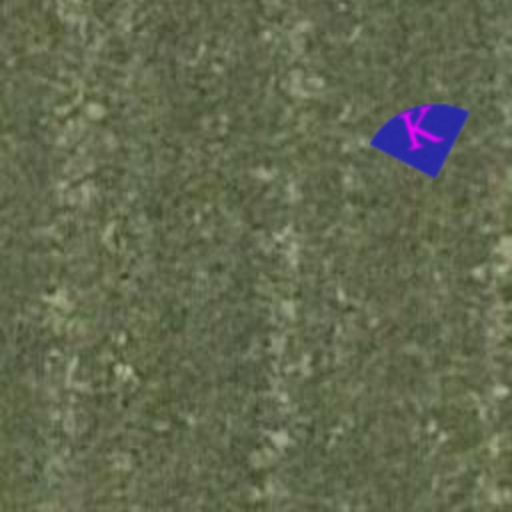quarter_circle: (358, 72, 486, 200)
